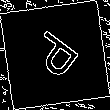P_SE: (24, 25, 86, 85)
